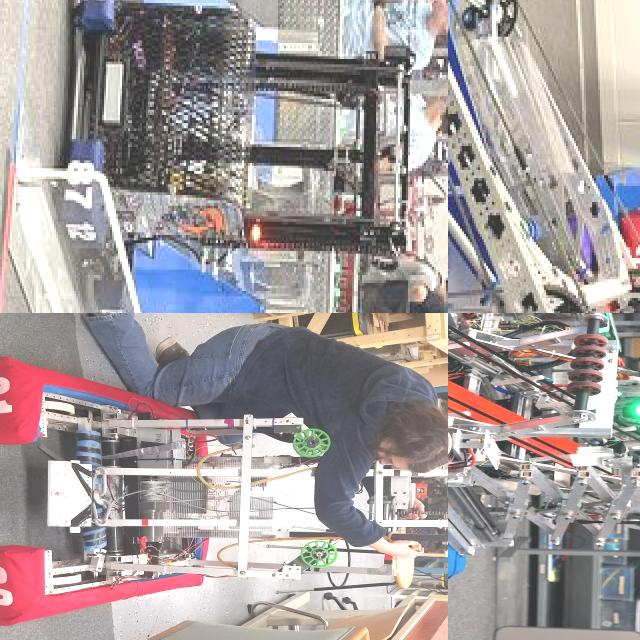FRC-Robots: (47, 0, 425, 313), (0, 313, 349, 640), (448, 0, 640, 313), (448, 313, 640, 598)
